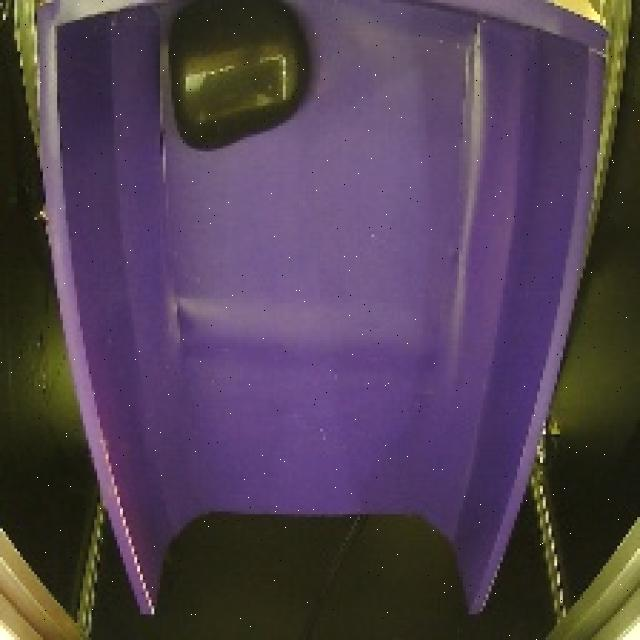cobbles: (151, 0, 321, 158)
